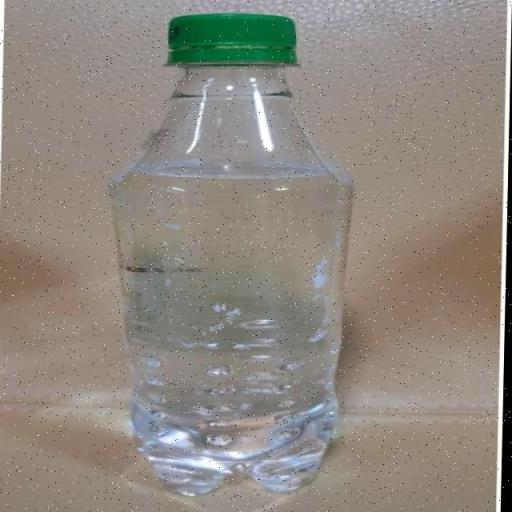plastic: (118, 13, 351, 497)
